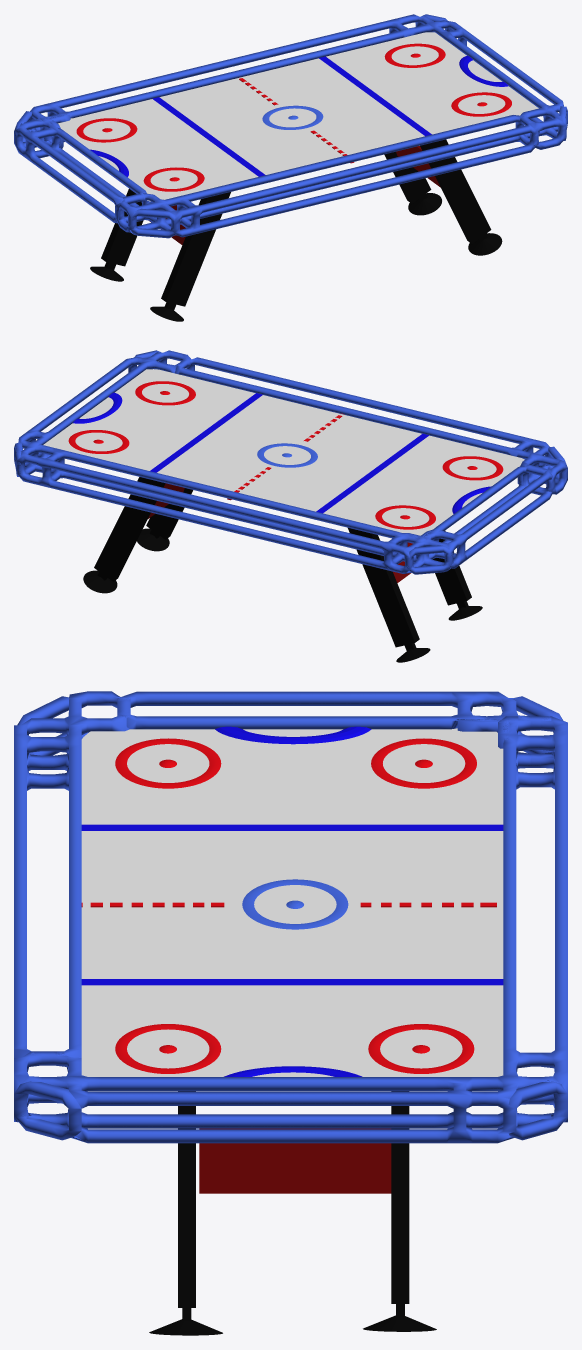
Rendered from Table.glb.
3 renders of one model, top to bottom at view 1: azimuth 30°, elevation 25°; view 2: azimuth 150°, elevation 25°; view 3: azimuth 270°, elevation 25°, orthographic. The views are drawn at different scales.
Parts seen in each view (by area): view 1: TableFloor, Table_Frame, Cube.006, Cube.003, Cube.004, Cube.005, BlueLine, BlueLine.001, Red_Circle_3, Red_Circle_3.003, Red_Circle_3.004, Red_Circle_3.001 (+1 smaller); view 2: TableFloor, Table_Frame, Cube.005, Cube.004, Cube.003, Cube.006, BlueLine.001, BlueLine, Red_Circle_3.003, Red_Circle_3, Red_Circle_3.004, Red_Circle_3.002 (+1 smaller); view 3: TableFloor, Table_Frame, Cube.002, Cube.005, Cube.006, BlueLine, BlueLine.001, Red_Circle_3.004, Red_Circle_3.002, Red_Circle_3.003, Red_Circle_3.001, Red_Circle_3 (+3 smaller).
Part boxes in pixels (bbox=[...]): TableFloor: bbox=[58, 32, 538, 201]; Table_Frame: bbox=[14, 14, 567, 238]; Cube.006: bbox=[420, 139, 502, 255]; Cube.003: bbox=[150, 192, 230, 321]; Cube.004: bbox=[90, 188, 143, 281]; Cube.005: bbox=[384, 151, 441, 215]; BlueLine: bbox=[152, 97, 265, 176]; BlueLine.001: bbox=[319, 56, 431, 136]; Red_Circle_3: bbox=[451, 92, 511, 116]; Red_Circle_3.003: bbox=[143, 167, 204, 191]; Red_Circle_3.004: bbox=[76, 118, 137, 142]; Red_Circle_3.001: bbox=[384, 43, 445, 67]; TableFloor: bbox=[43, 369, 524, 535]; Table_Frame: bbox=[14, 350, 567, 574]; Cube.005: bbox=[83, 477, 165, 593]; Cube.004: bbox=[348, 528, 430, 662]; Cube.003: bbox=[433, 531, 482, 620]; Cube.006: bbox=[137, 488, 193, 551]; BlueLine.001: bbox=[150, 393, 262, 472]; BlueLine: bbox=[316, 433, 428, 513]; Red_Circle_3.003: bbox=[442, 456, 503, 480]; Red_Circle_3: bbox=[135, 381, 195, 405]; Red_Circle_3.004: bbox=[375, 505, 435, 529]; Red_Circle_3.002: bbox=[257, 443, 317, 467]; TableFloor: bbox=[81, 728, 503, 1076]; Table_Frame: bbox=[14, 691, 567, 1143]; Cube.002: bbox=[199, 1128, 391, 1193]; Cube.005: bbox=[363, 1091, 436, 1331]; Cube.006: bbox=[149, 1091, 222, 1335]; BlueLine: bbox=[81, 824, 503, 830]; BlueLine.001: bbox=[81, 979, 503, 985]; Red_Circle_3.004: bbox=[371, 738, 476, 788]; Red_Circle_3.002: bbox=[242, 879, 348, 929]; Red_Circle_3.003: bbox=[115, 738, 221, 788]; Red_Circle_3.001: bbox=[368, 1024, 474, 1073]; Red_Circle_3: bbox=[115, 1024, 221, 1073].
Size of the model in its own units: 151 by 51.22 by 87.27.
